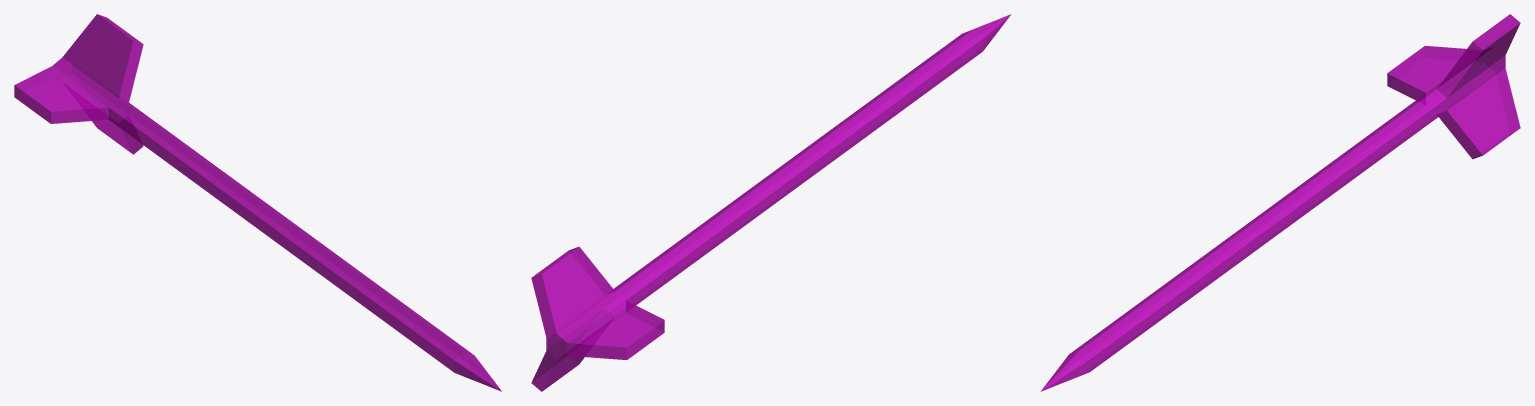
The model's file is homura_arrow3.fbx.
The picture shows the model from 3 angles, left to right: view 1: azimuth 30°, elevation 25°; view 2: azimuth 150°, elevation 25°; view 3: azimuth 330°, elevation 25°; orthographic projection. The views are drawn at different scales.
Parts seen in each view (by area): view 1: homura_arrow; view 2: homura_arrow; view 3: homura_arrow.
Part boxes in pixels (x1,y1,x2,y2): homura_arrow: (14,14,501,391); homura_arrow: (531,14,1011,391); homura_arrow: (1040,14,1520,391).
Bounding box in the file's own units: 26.63 × 31.31 × 219.
